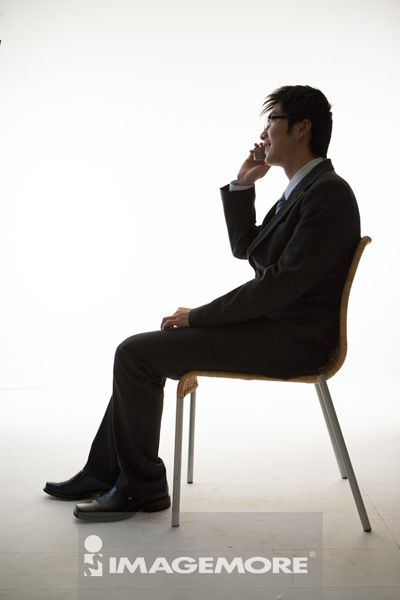talk: (237, 107, 292, 187)
